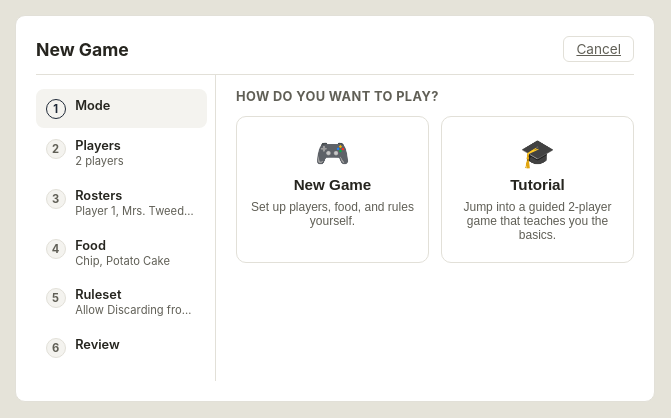
Test: NewGamePage › lands on the Players step with 2 players picked by default once New Game is chosen
The image size is (671, 418).
Click the button "🎮 New Game Set up players, food, and rules yourself.": coordinates (332, 189) left=236, top=116, right=429, bottom=263
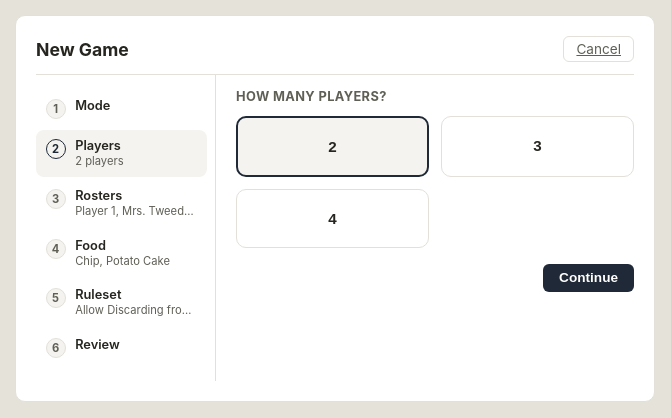
Expected: the text "How many players?" is shown, left=236, top=89, right=387, bottom=104
